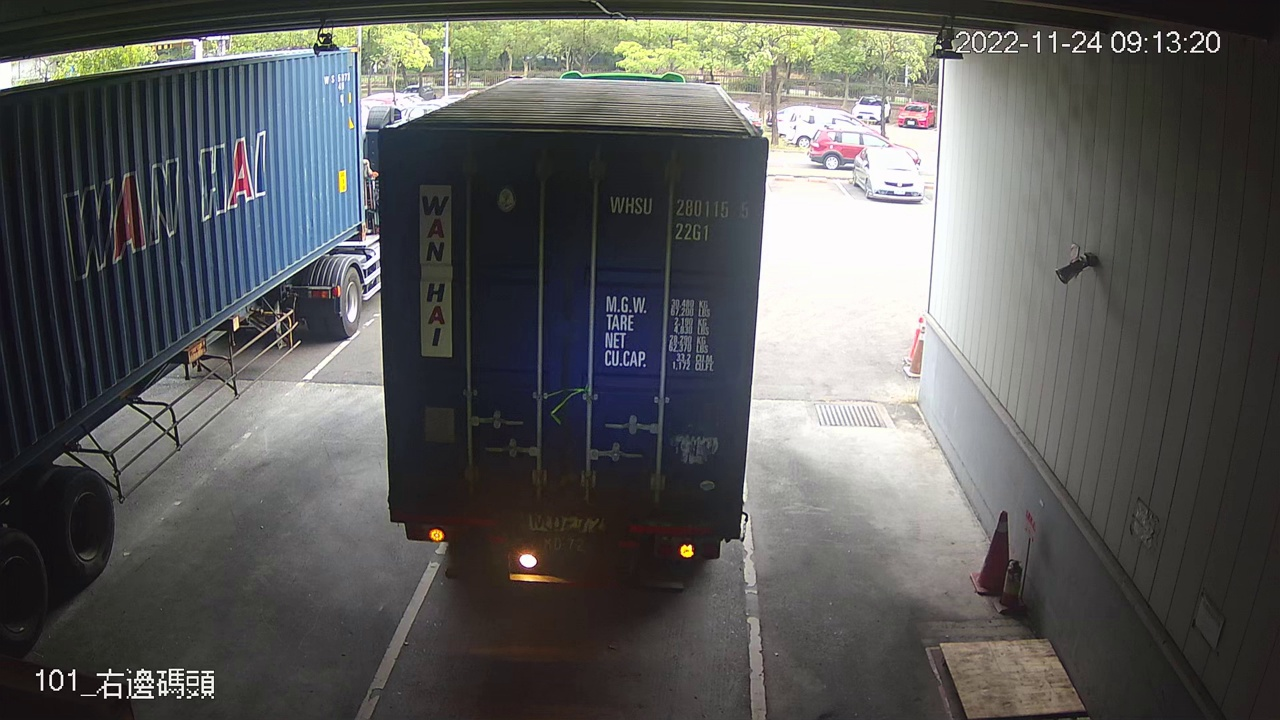container: (603, 189, 757, 246)
